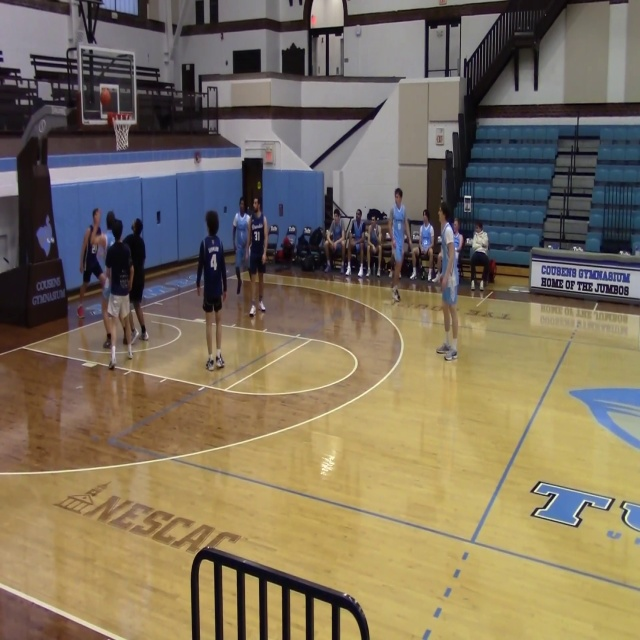Basketball: (100, 88, 111, 105), (77, 305, 85, 318)
